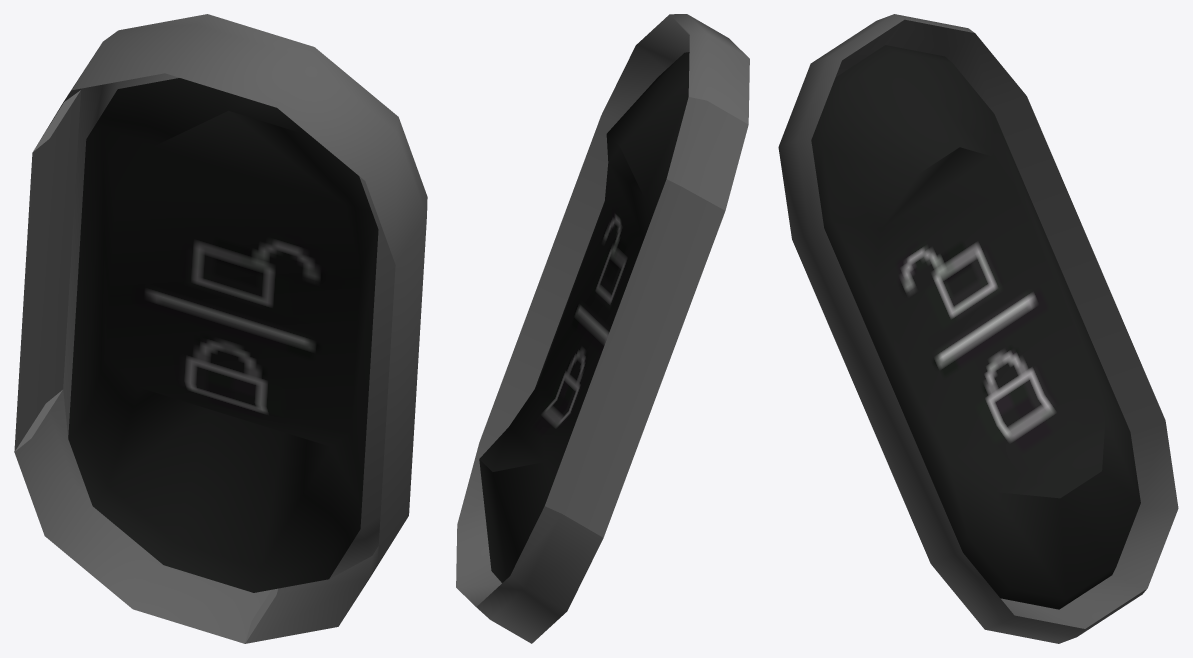
Rendered from Murcielago-RightDoorDetails.fbx.
3 renders of one model, left to right at view 1: azimuth 30°, elevation 25°; view 2: azimuth 150°, elevation 25°; view 3: azimuth 270°, elevation 25°, orthographic. The views are drawn at different scales.
Parts seen in each view (by area): view 1: P_RightDoorDetails; view 2: P_RightDoorDetails; view 3: P_RightDoorDetails.
Part boxes in pixels (bbox=[...]): P_RightDoorDetails: bbox=[14, 14, 427, 643]; P_RightDoorDetails: bbox=[456, 14, 749, 643]; P_RightDoorDetails: bbox=[778, 14, 1178, 643].
Size of the model in its own units: 0.0334 by 0.0671 by 0.0425.
